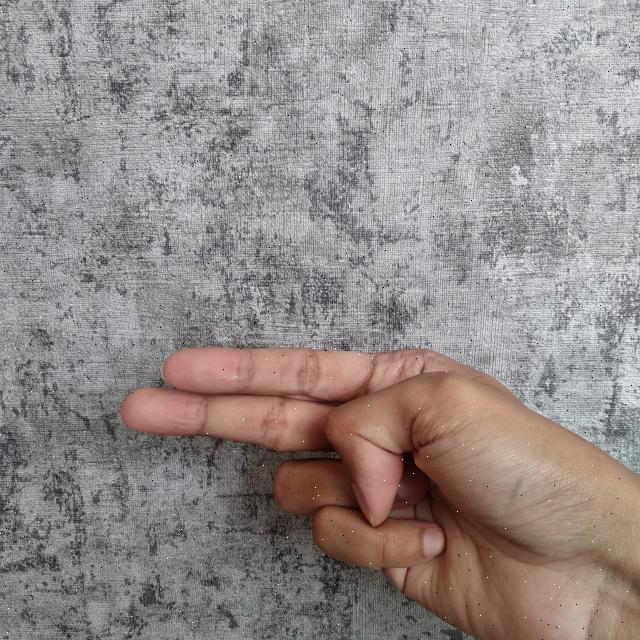H: (119, 345, 639, 640)
